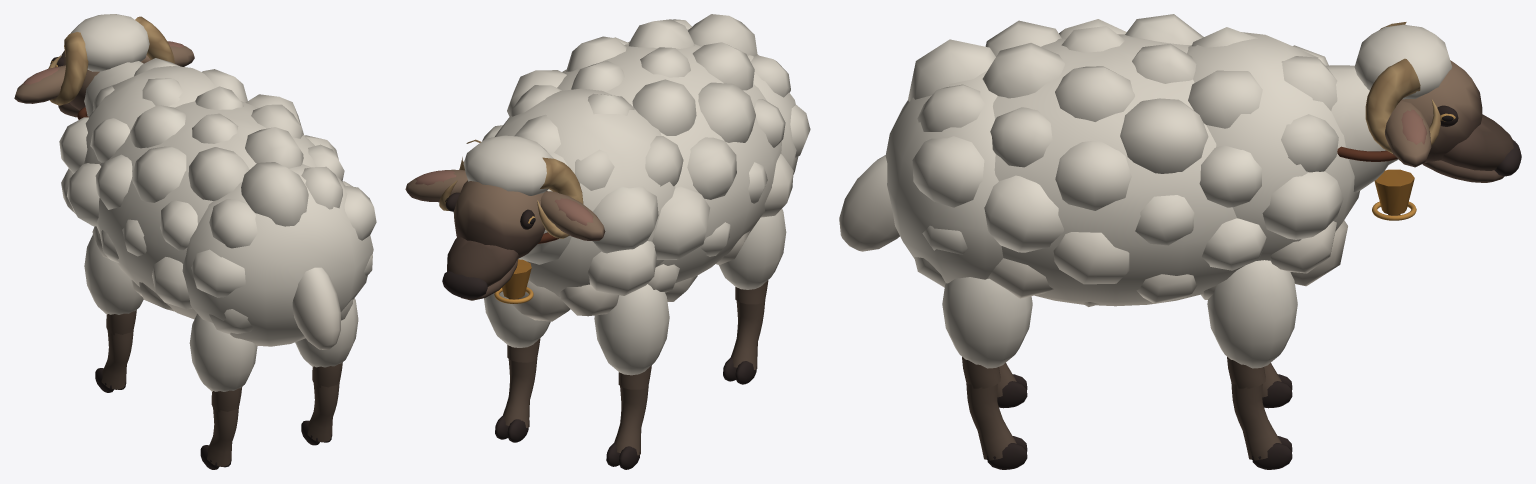
The model's file is aegean-sheep.glb.
The picture shows the model from 3 angles, left to right: view 1: azimuth 30°, elevation 25°; view 2: azimuth 150°, elevation 25°; view 3: azimuth 270°, elevation 25°; orthographic projection. The views are drawn at different scales.
Visible parts, largest first — view 1: Wool, Upper sheep leg (×3), Head, Lower sheep leg (×3), Tail, Ram horns and bell, Neck; view 2: Wool, Head, Upper sheep leg (×3), Lower sheep leg (×3), Ram horns and bell, Cloven hoof (×3), Neck; view 3: Wool, Upper sheep leg (×2), Head, Ram horns and bell, Lower sheep leg (×2), Tail, Neck, Cloven hoof (×4), Jaw.
Part boxes in pixels (bbox=[...]): Wool: bbox=[59, 58, 376, 346]; Upper sheep leg (×3): bbox=[84, 234, 358, 412]; Head: bbox=[14, 14, 194, 110]; Lower sheep leg (×3): bbox=[101, 329, 339, 466]; Tail: bbox=[292, 267, 340, 349]; Ram horns and bell: bbox=[48, 16, 174, 119]; Neck: bbox=[84, 61, 143, 116]; Wool: bbox=[453, 14, 810, 321]; Head: bbox=[405, 135, 605, 298]; Upper sheep leg (×3): bbox=[484, 209, 786, 389]; Lower sheep leg (×3): bbox=[503, 300, 765, 455]; Ram horns and bell: bbox=[439, 139, 583, 303]; Cloven hoof (×3): bbox=[495, 357, 756, 469]; Neck: bbox=[518, 152, 571, 264]; Wool: bbox=[885, 14, 1359, 306]; Upper sheep leg (×2): bbox=[942, 260, 1297, 388]; Head: bbox=[1354, 24, 1521, 176]; Ram horns and bell: bbox=[1337, 22, 1440, 220]; Lower sheep leg (×2): bbox=[966, 383, 1281, 460]; Tail: bbox=[839, 155, 899, 251]; Neck: bbox=[1325, 65, 1398, 192]; Cloven hoof (×4): bbox=[987, 374, 1292, 469]; Jaw: bbox=[1422, 160, 1504, 182].
Bounding box in the file's own units: 0.6876 × 0.9738 × 1.49.
